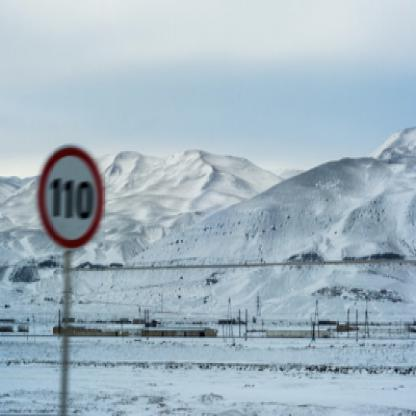speedlimit: (35, 142, 104, 246)
